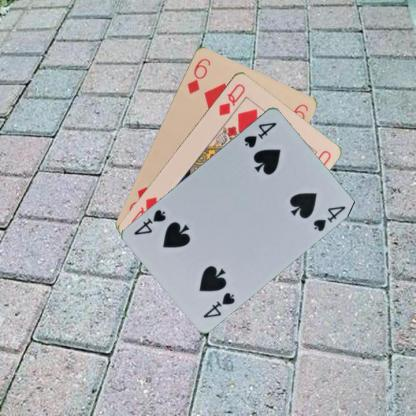4s: (241, 119, 278, 149), (200, 289, 236, 319)
6d: (184, 55, 212, 95)
Qd: (216, 80, 247, 118)
